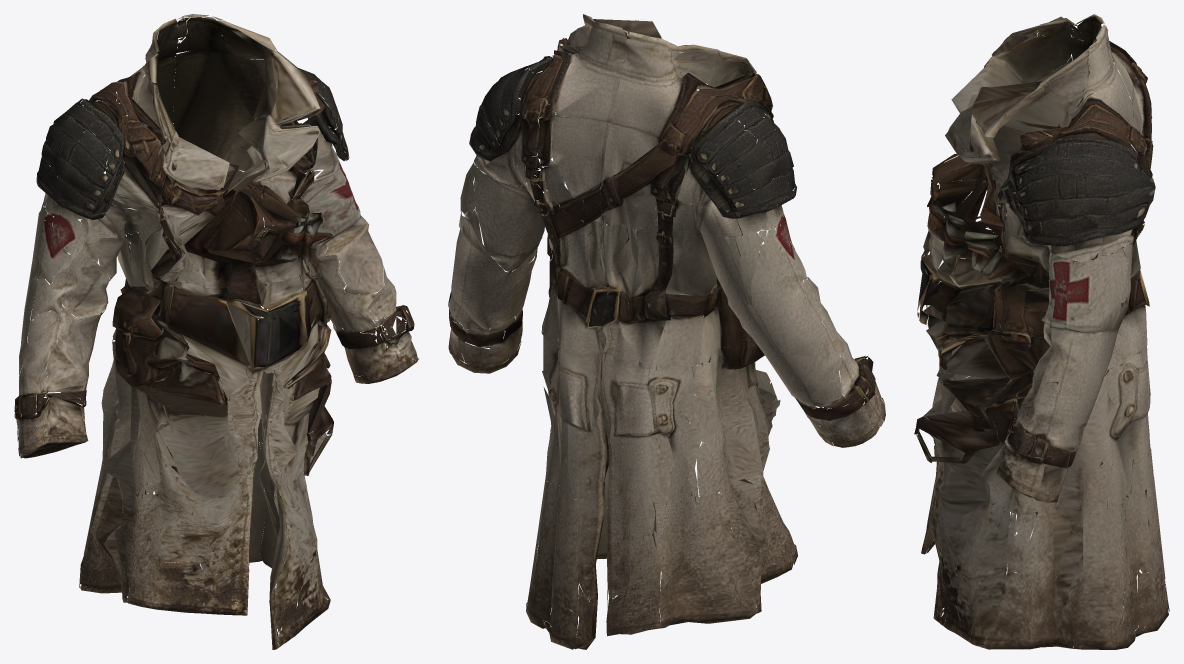
File: a_ward_coat_sera.glb
3 renders of one model, left to right at view 1: azimuth 30°, elevation 25°; view 2: azimuth 150°, elevation 25°; view 3: azimuth 270°, elevation 25°, orthographic. The views are drawn at different scales.
Visible parts, largest first — view 1: tripo_node_2e97382c-2fde-45fd-889a-63a90244399b; view 2: tripo_node_2e97382c-2fde-45fd-889a-63a90244399b; view 3: tripo_node_2e97382c-2fde-45fd-889a-63a90244399b.
Part boxes in pixels (x1,y1,x2,y2): tripo_node_2e97382c-2fde-45fd-889a-63a90244399b: (14, 14, 418, 649); tripo_node_2e97382c-2fde-45fd-889a-63a90244399b: (448, 14, 885, 649); tripo_node_2e97382c-2fde-45fd-889a-63a90244399b: (914, 14, 1169, 649).
Bounding box in the file's own units: 0.7459 × 1.02 × 0.4017.
1 material, 1 textured.
